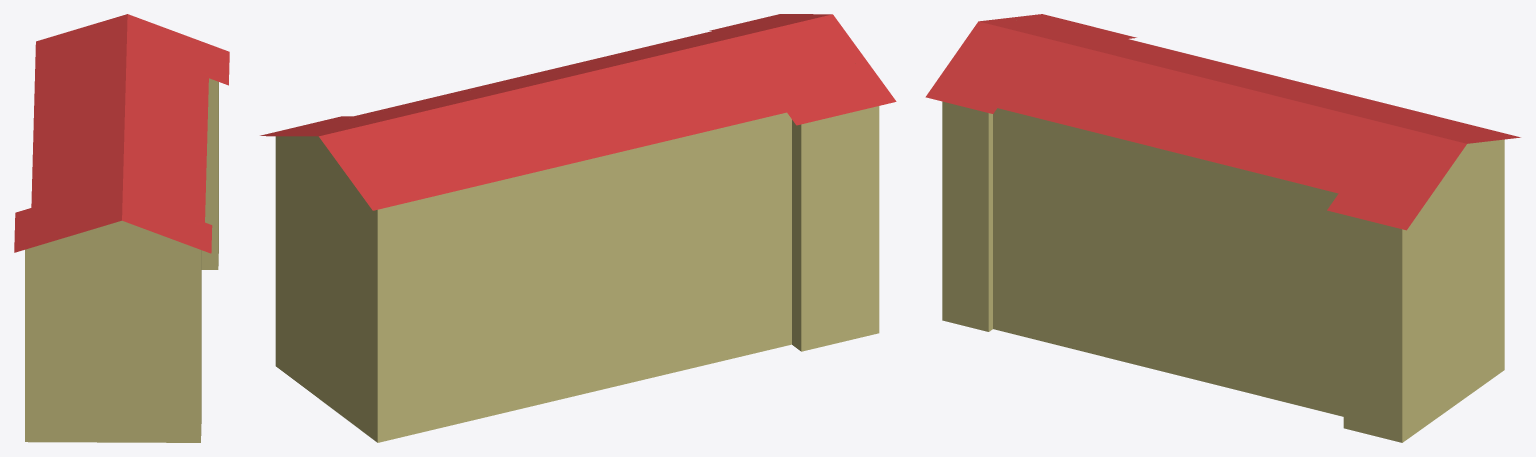
3 views of the same model, side by side, from view 1: azimuth 30°, elevation 25°; view 2: azimuth 150°, elevation 25°; view 3: azimuth 270°, elevation 25° (orthographic). The views are drawn at different scales.
Parts seen in each view (by area): view 1: group_5, group_3, group_4; view 2: group_5, group_3, group_4; view 3: group_5, group_3, group_4.
Boxes of the visible parts, x1=… form: group_5: x1=25, y1=78, x2=218, y2=442; group_3: x1=14, y1=14, x2=229, y2=253; group_4: x1=15, y1=14, x2=229, y2=252; group_5: x1=275, y1=106, x2=879, y2=442; group_3: x1=261, y1=14, x2=895, y2=209; group_4: x1=260, y1=14, x2=896, y2=210; group_5: x1=942, y1=101, x2=1504, y2=442; group_3: x1=925, y1=14, x2=1503, y2=230; group_4: x1=979, y1=14, x2=1520, y2=229.
Bounding box in the file's own units: 30.39 × 36.26 × 17.66.
